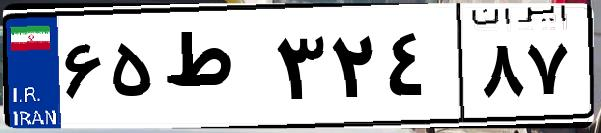2: (330, 28, 385, 110)
3: (270, 28, 330, 110)
4: (385, 28, 445, 110)
5: (110, 28, 158, 98)
6: (57, 26, 110, 100)
7: (525, 38, 570, 115)
8: (475, 38, 525, 113)
ط: (158, 20, 270, 120)
